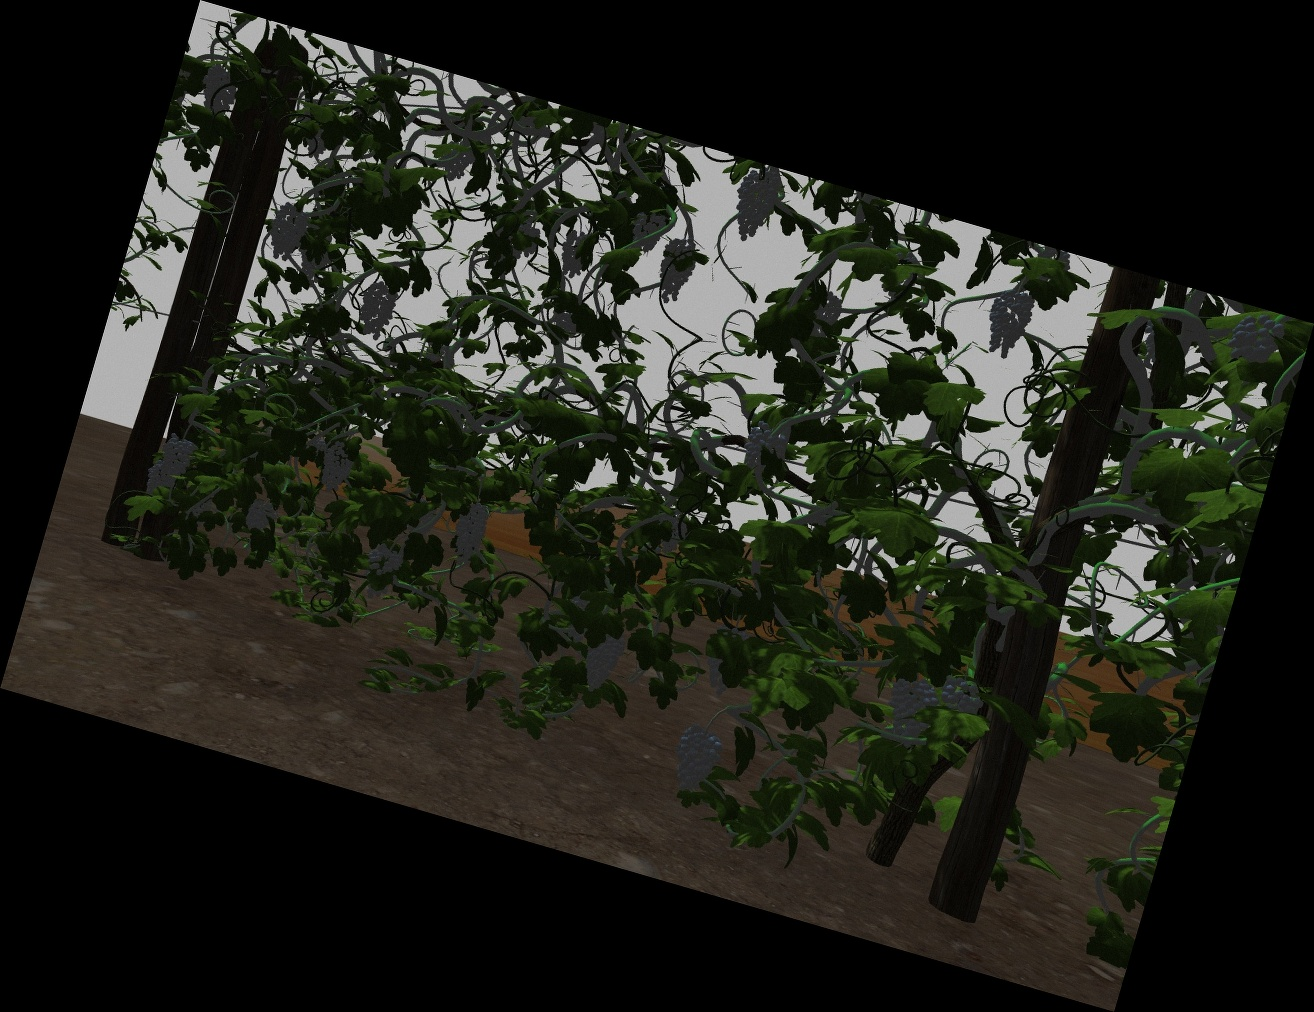grape: (736, 166, 779, 243), (890, 680, 934, 746), (676, 728, 715, 795), (656, 239, 696, 304), (582, 629, 621, 694), (990, 291, 1027, 359), (744, 422, 786, 483), (268, 203, 308, 263), (355, 280, 395, 338), (1237, 314, 1285, 362), (198, 66, 239, 122), (454, 502, 487, 561), (318, 442, 351, 492), (631, 210, 664, 255), (437, 139, 472, 181), (560, 232, 591, 277), (943, 680, 984, 712), (163, 436, 193, 476), (144, 467, 176, 502), (246, 497, 274, 534), (366, 545, 401, 574)
